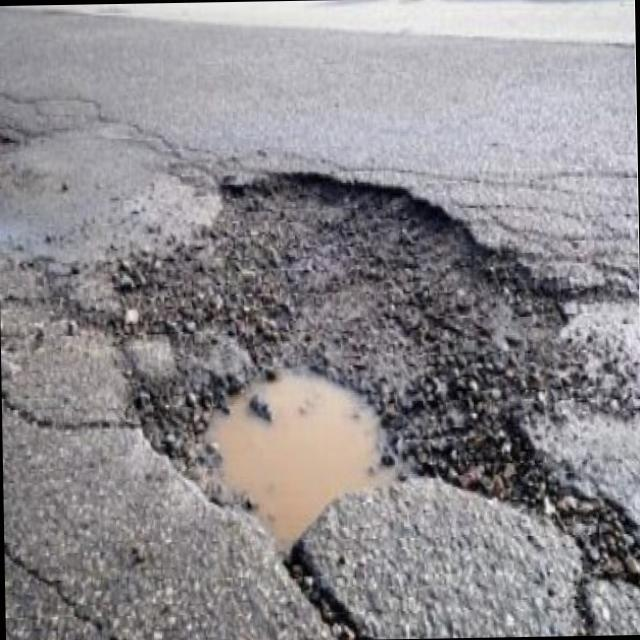Pothole: (129, 175, 551, 578)
